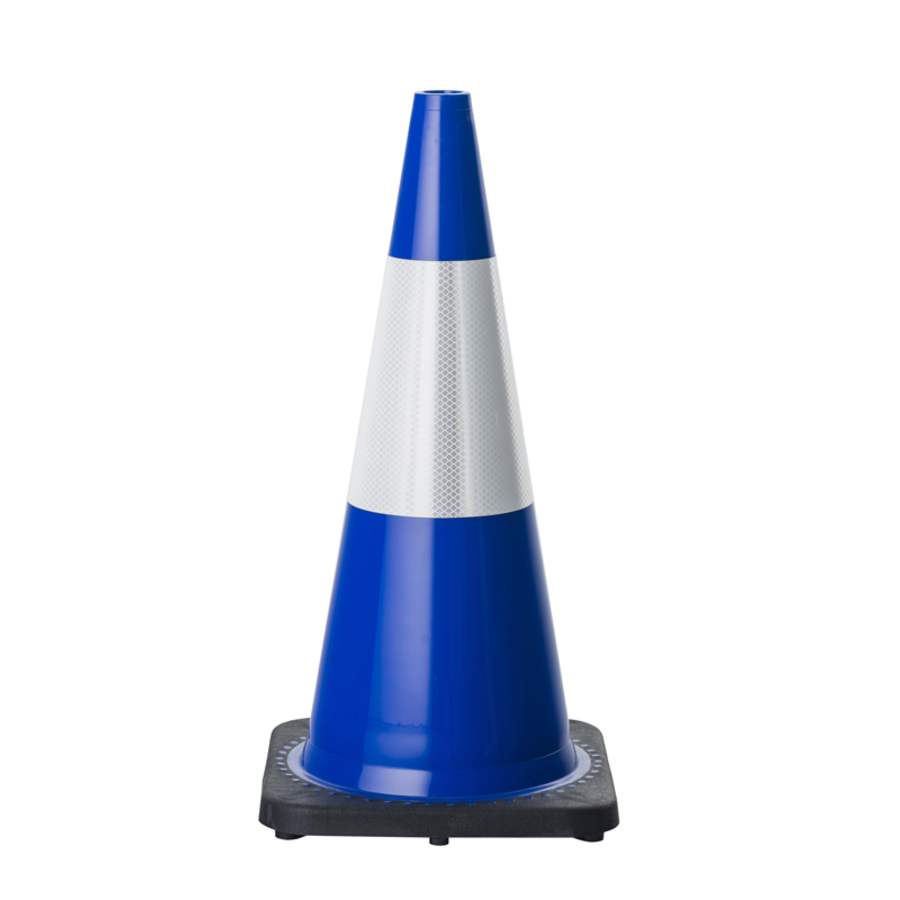cone: (259, 86, 624, 844)
